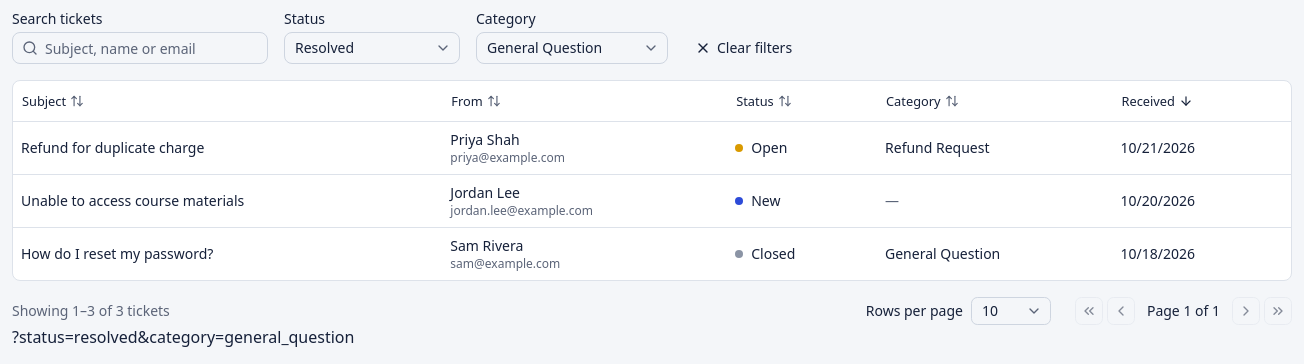
Test: TicketsTable › filters › clears all filters
Expected: the link "Refund for duplicate charge" is shown, [21,138,204,156]
Click the button "Clear filters": point(744, 48) [684,32,803,64]
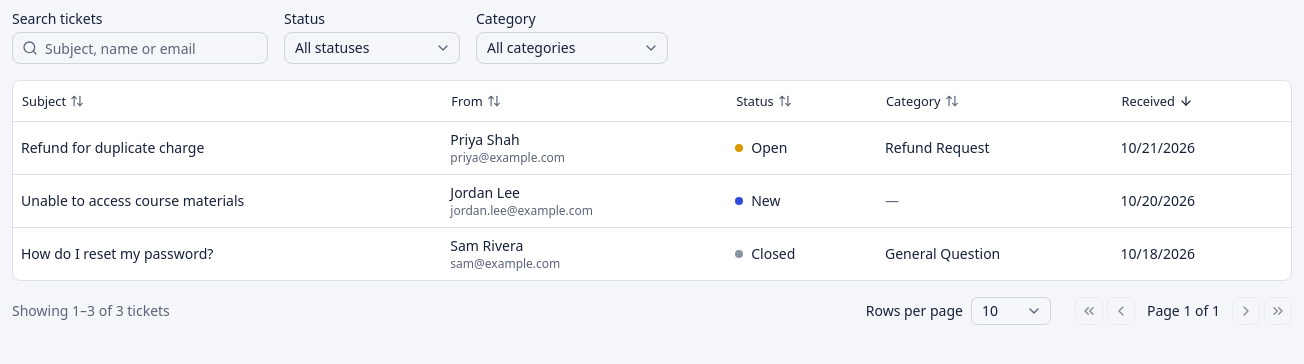
Result: the dropdown labelled "status" reads "All statuses" at [284,32,460,64]
Result: the dropdown named "Category" reads "All categories" at [476,32,668,64]
Result: the button "Clear filters" is gone
